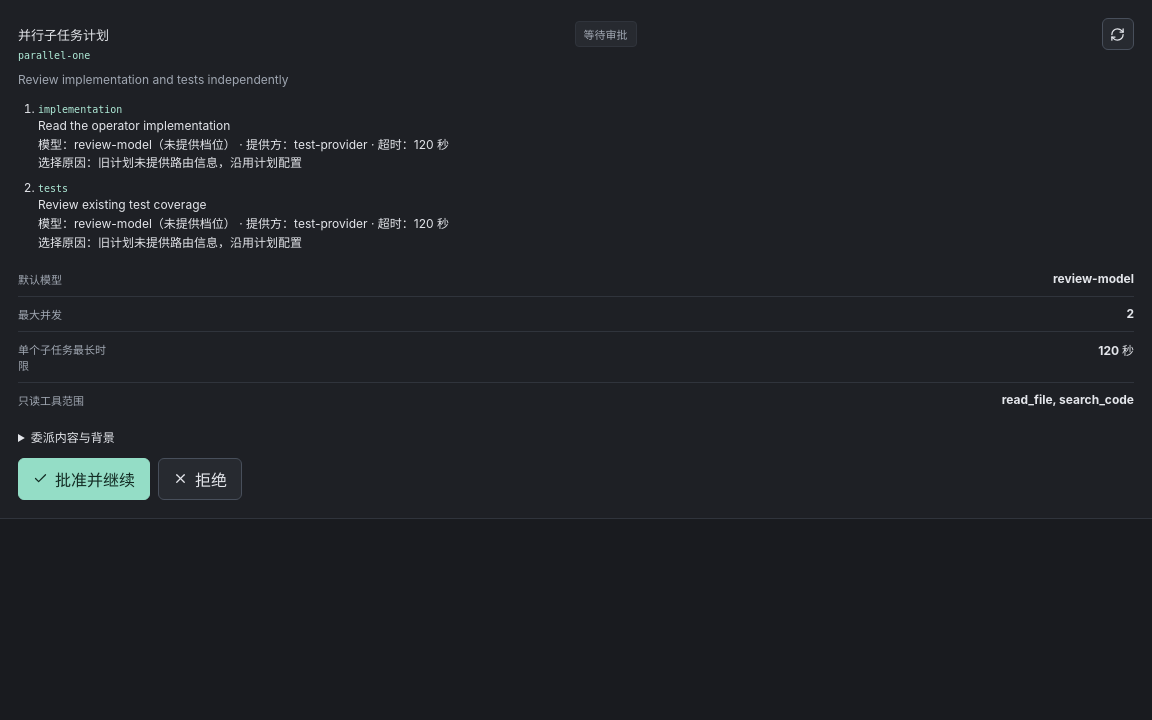
Test: ParallelPlanCard › expands the exact delegated background and original request without approving
The width and height of the screenshot is (1152, 720).
expect the text "Review implementation and tests independently" is shown: met, box [18,72,288,87]
Click the heading "委派内容与背景". click: x=73, y=438
box: [31,430,115,445]
(page scrolled)
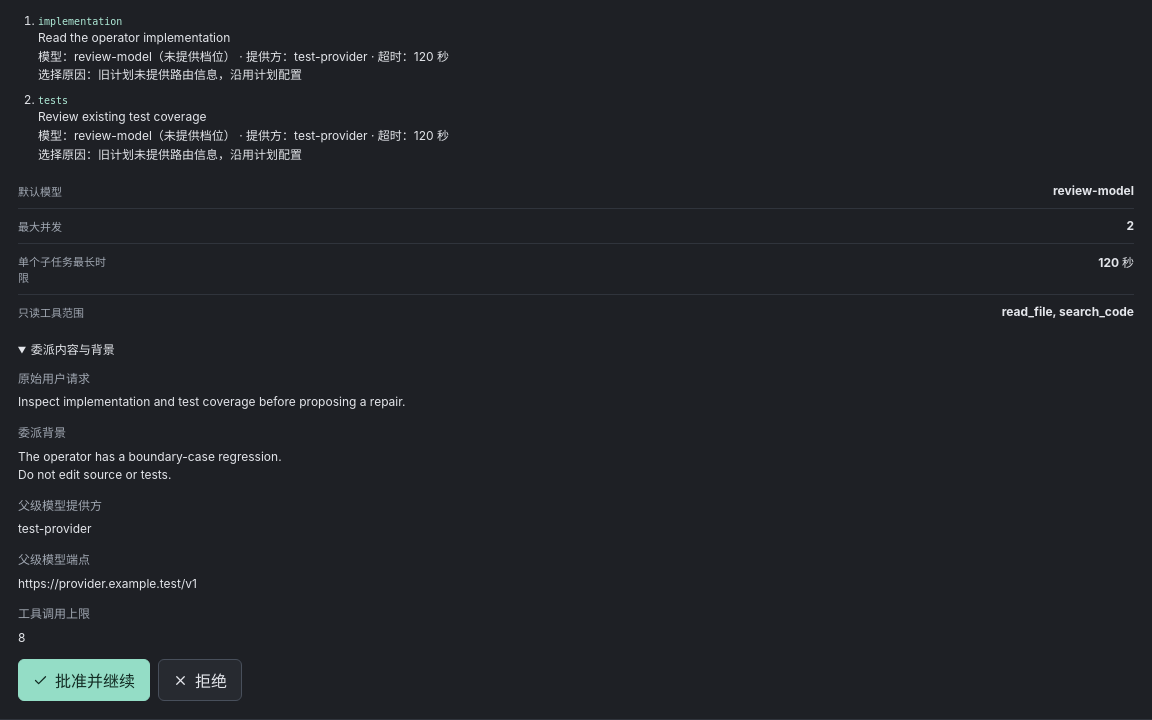
expect the text "Inspect implementation and test coverage before proposing a repair." is shown: met, box [18,394,406,409]
expect the text "test-provider" is shown: met, box [18,521,92,536]
expect the text "https://provider.example.test/v1" is shown: met, box [18,576,197,590]
